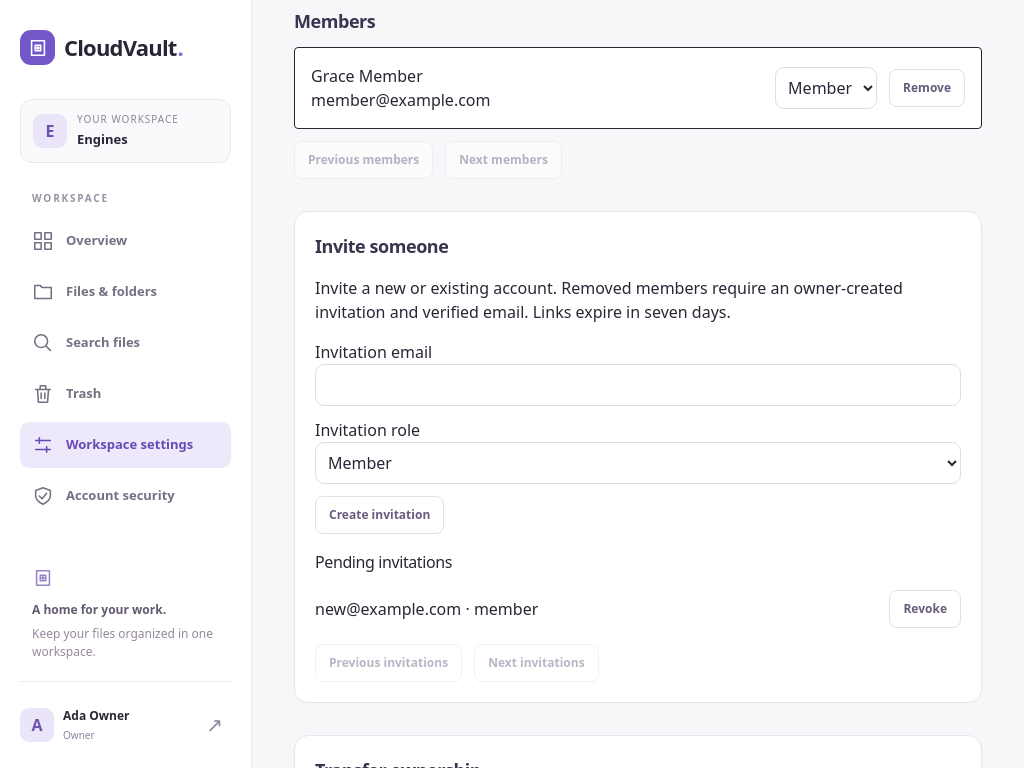
Scenario: Organization and profile flows › creates a private invitation link and revokes it
(page scrolled)
Type "new@example.com" into the field labelled "Invitation email" at (638, 385), box [315,364,961,406]
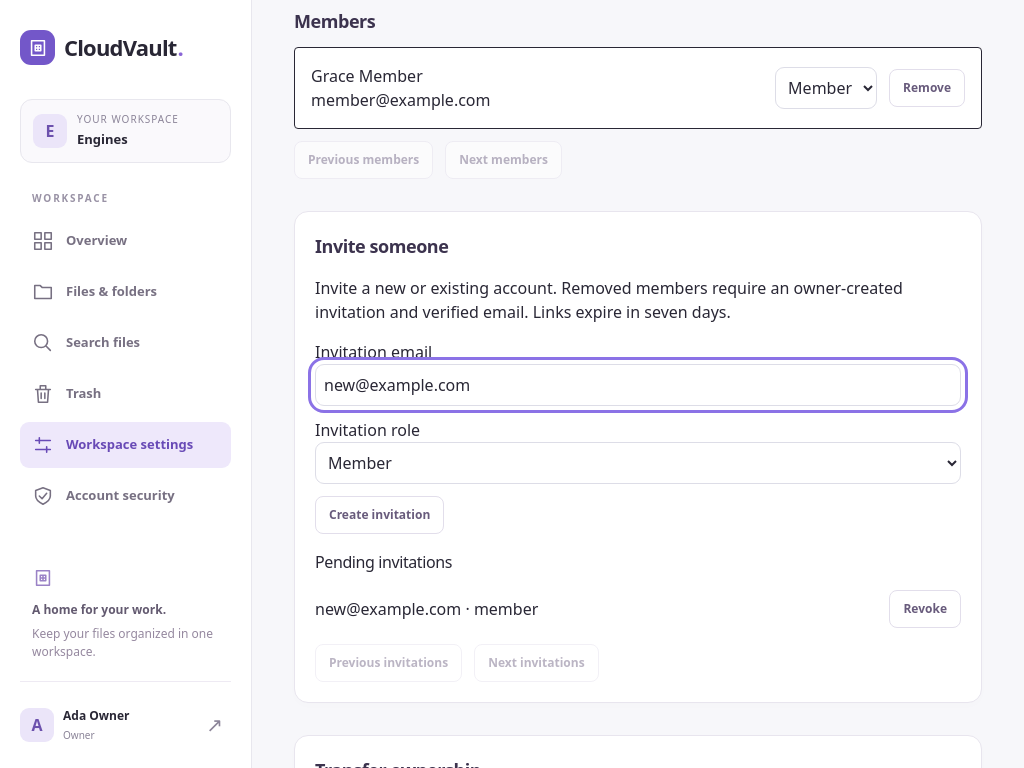
Click the button "Create invitation" at (380, 515), box [315,496,444,534]
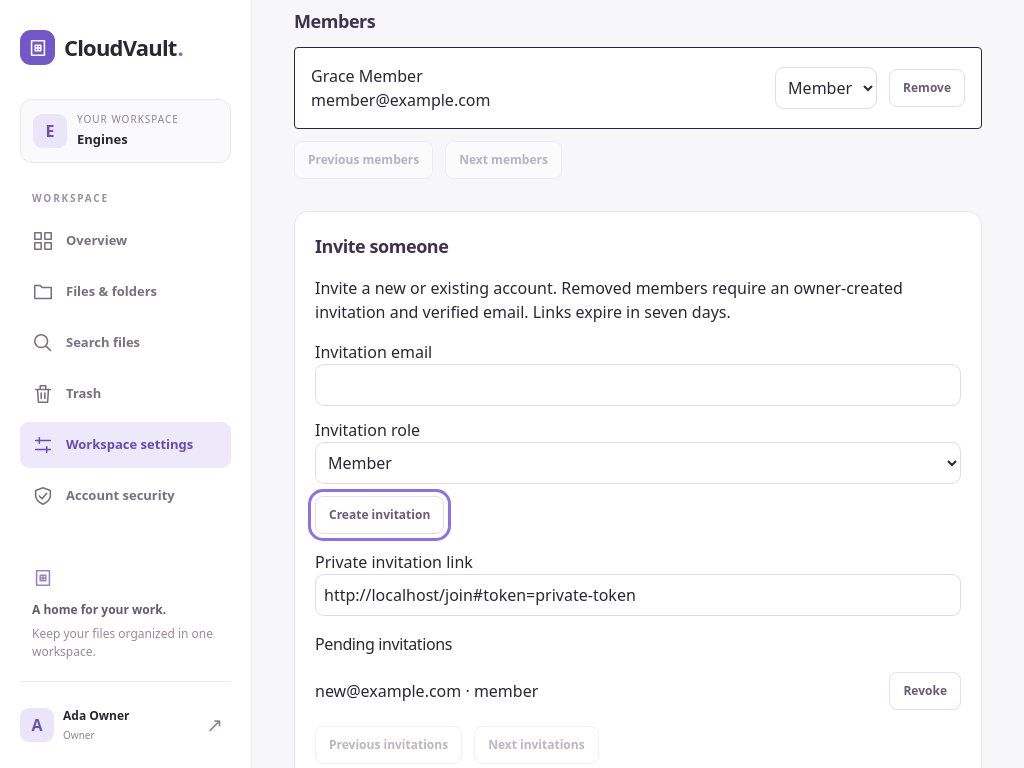
Click the button with aria-label "Revoke invitation for new@example.com" at (925, 691), box [889,672,961,710]
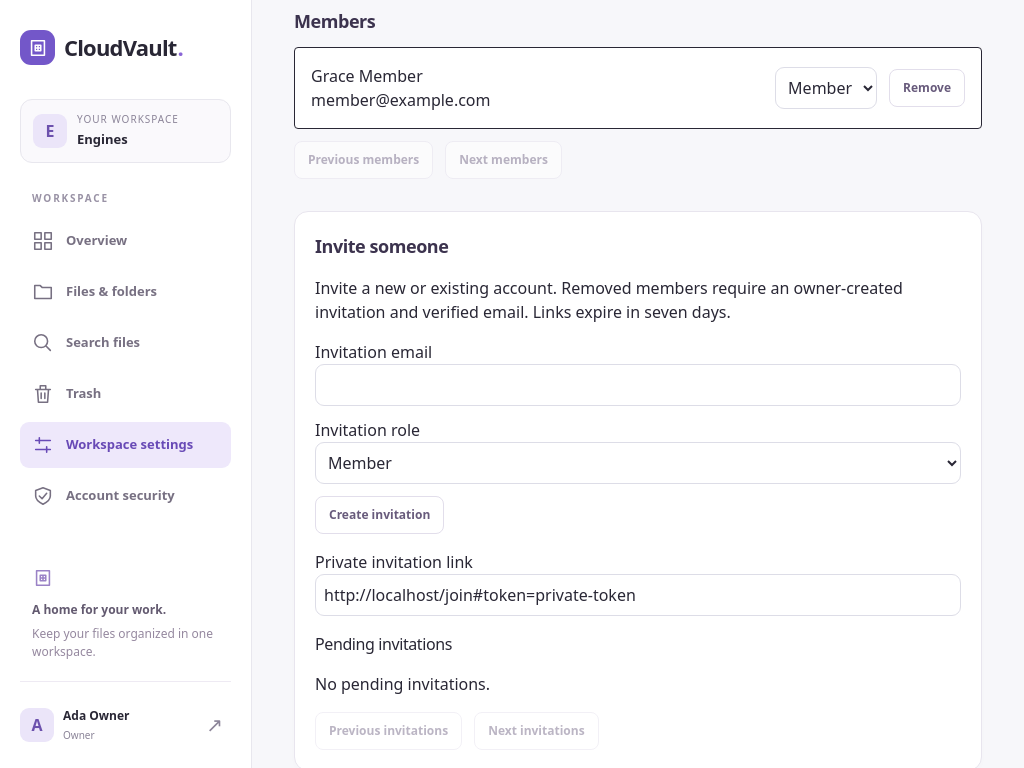
Result: the text "No pending invitations." is shown at [315,673,490,695]
